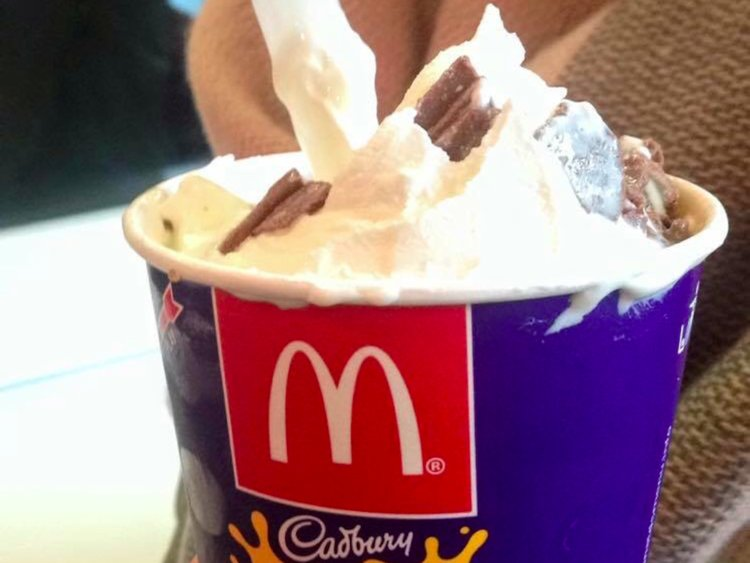mcdonalds: (262, 337, 429, 485)
